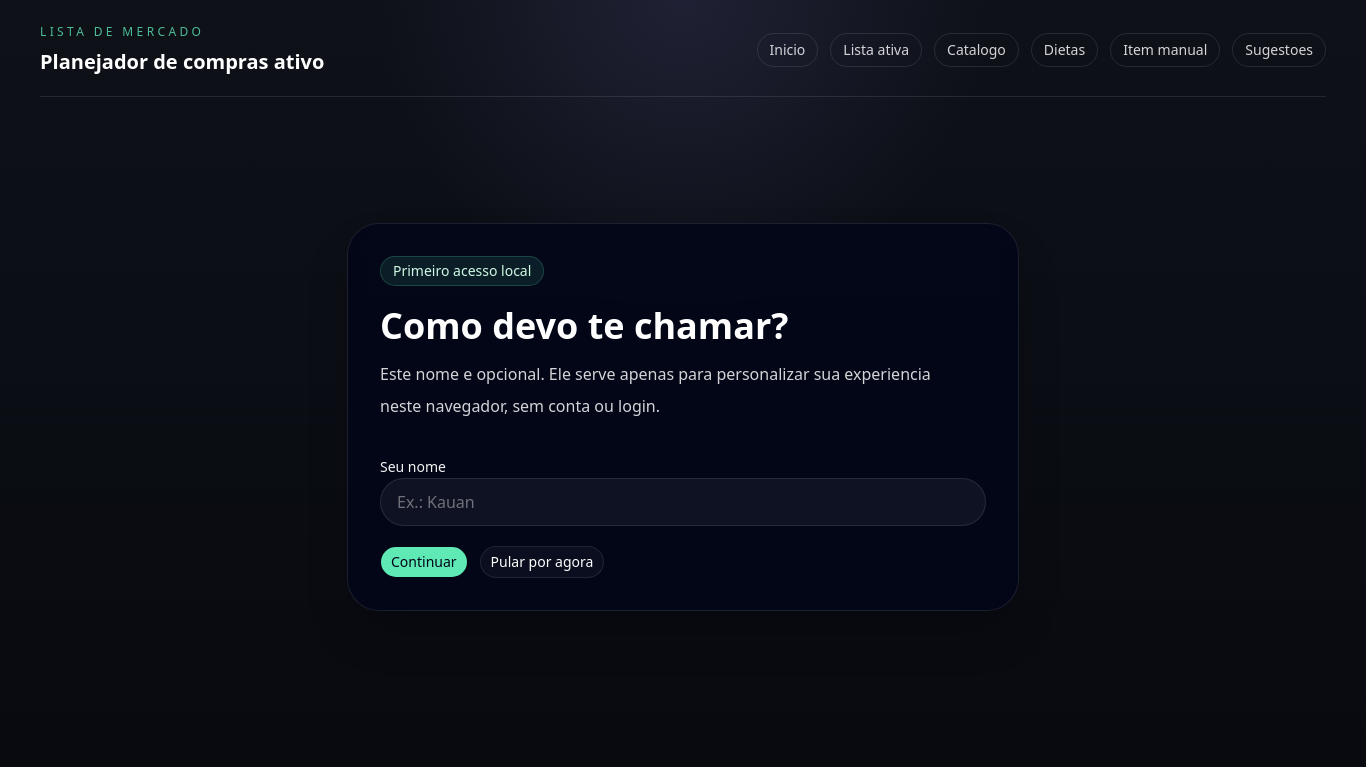
Test: shopping-list workspace › accepts an optional guest name without blocking access
The width and height of the screenshot is (1366, 767).
Type "Kauan" into the field labelled "Seu nome".
click(683, 502); type("Kauan")  # box [380, 478, 986, 526]
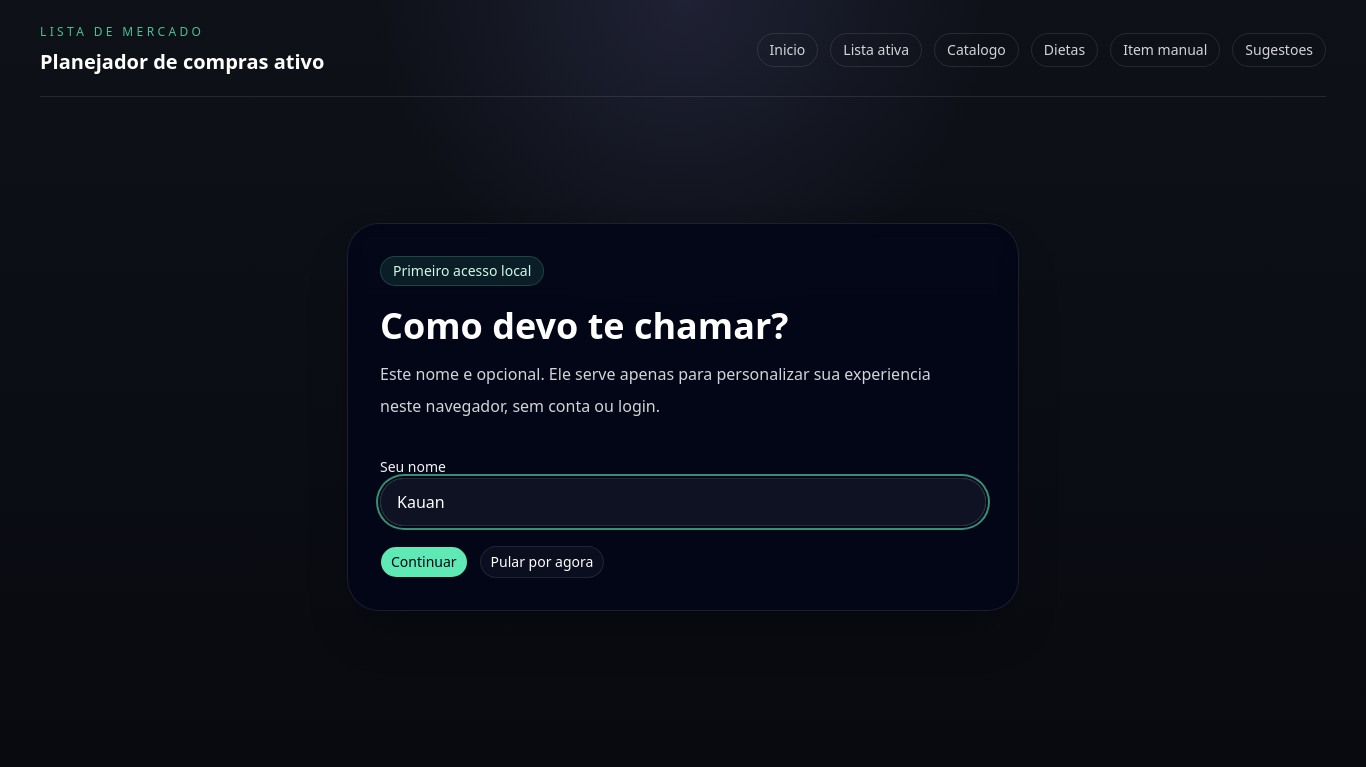
Click the button "Continuar".
click(424, 562)  # box [380, 546, 468, 578]
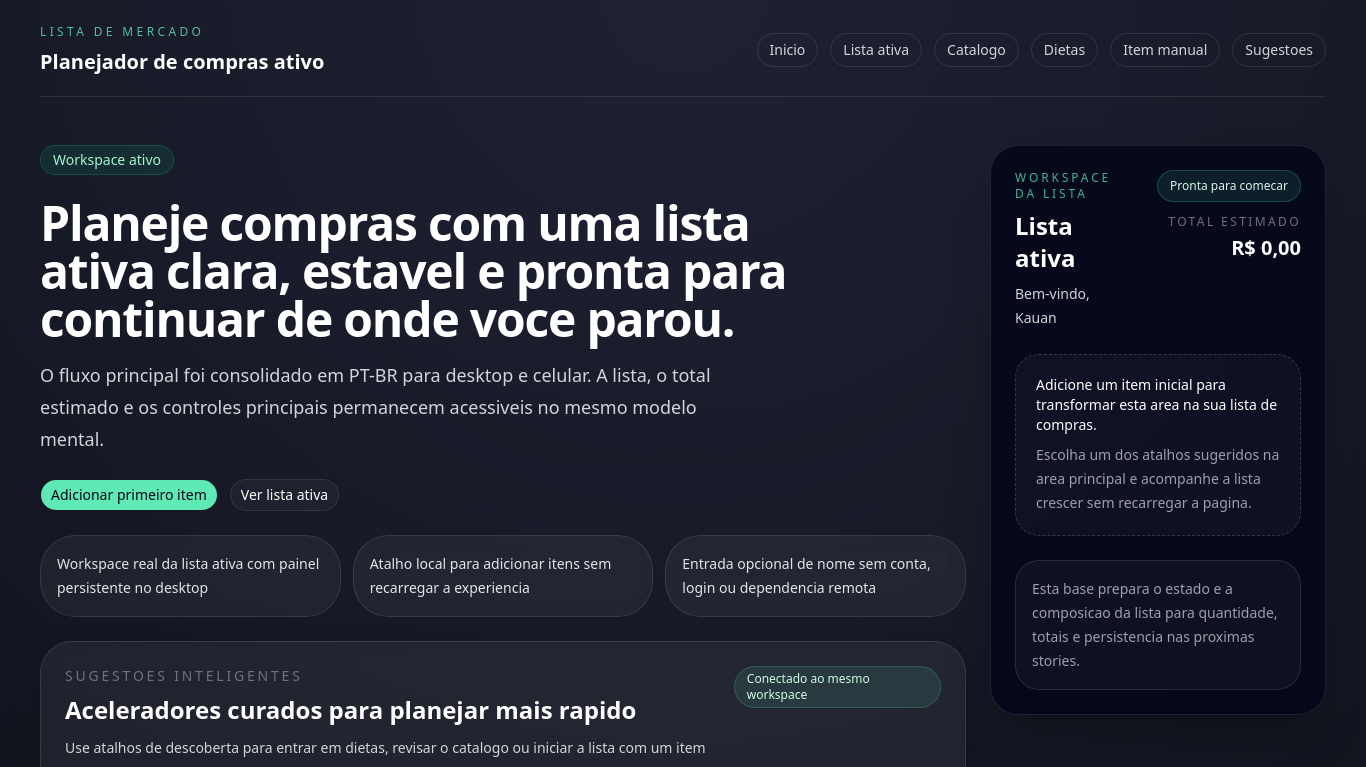
Check: the text "Bem-vindo, Kauan" is shown, box [1015, 284, 1090, 327]
Check: the heading "Lista ativa" is shown, box [1015, 209, 1075, 274]
